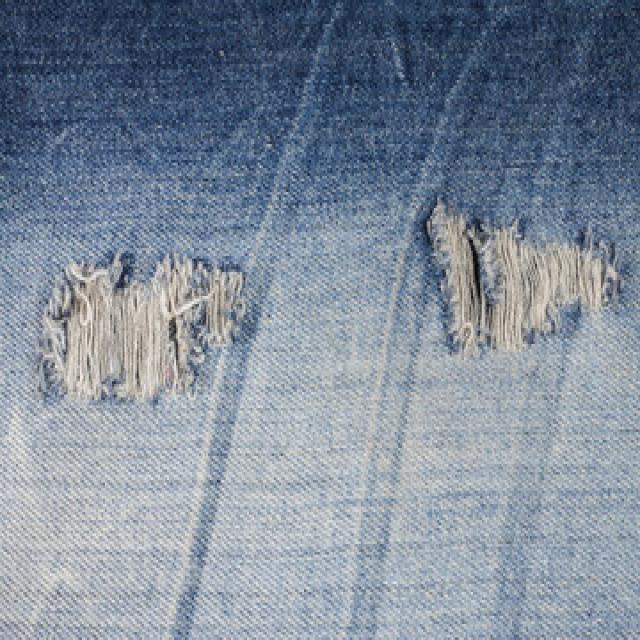Hole: (39, 254, 246, 402), (428, 201, 624, 356)
